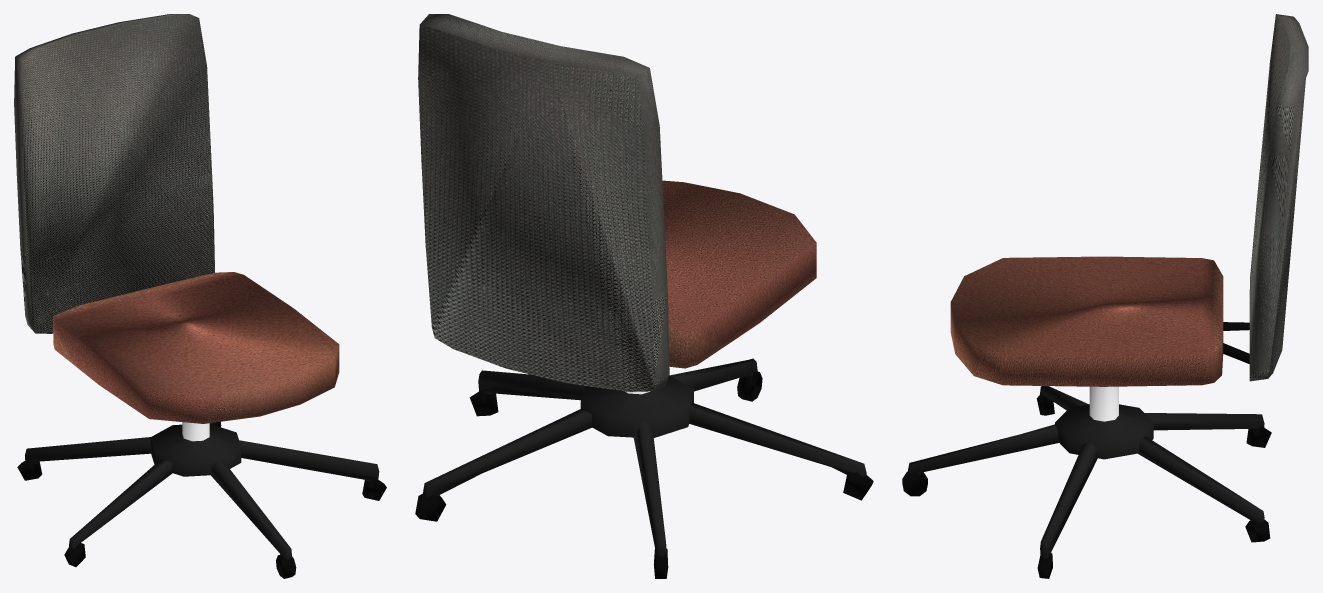
Rendered from Cadeiras-LAB-telma(trevo).fbx.
3 views of the same model, side by side, from view 1: azimuth 30°, elevation 25°; view 2: azimuth 150°, elevation 25°; view 3: azimuth 270°, elevation 25° (orthographic). The views are drawn at different scales.
Parts seen in each view (by area): view 1: cadeira parte de baixo; view 2: cadeira parte de baixo; view 3: cadeira parte de baixo.
Boxes of the visible parts, x1=… form: cadeira parte de baixo: x1=14, y1=14, x2=386, y2=578; cadeira parte de baixo: x1=415, y1=14, x2=873, y2=578; cadeira parte de baixo: x1=902, y1=14, x2=1308, y2=578.
Size of the model in its own units: 0.4891 by 0.6173 by 0.5105.
Materials: 7 (2 with a texture image).
